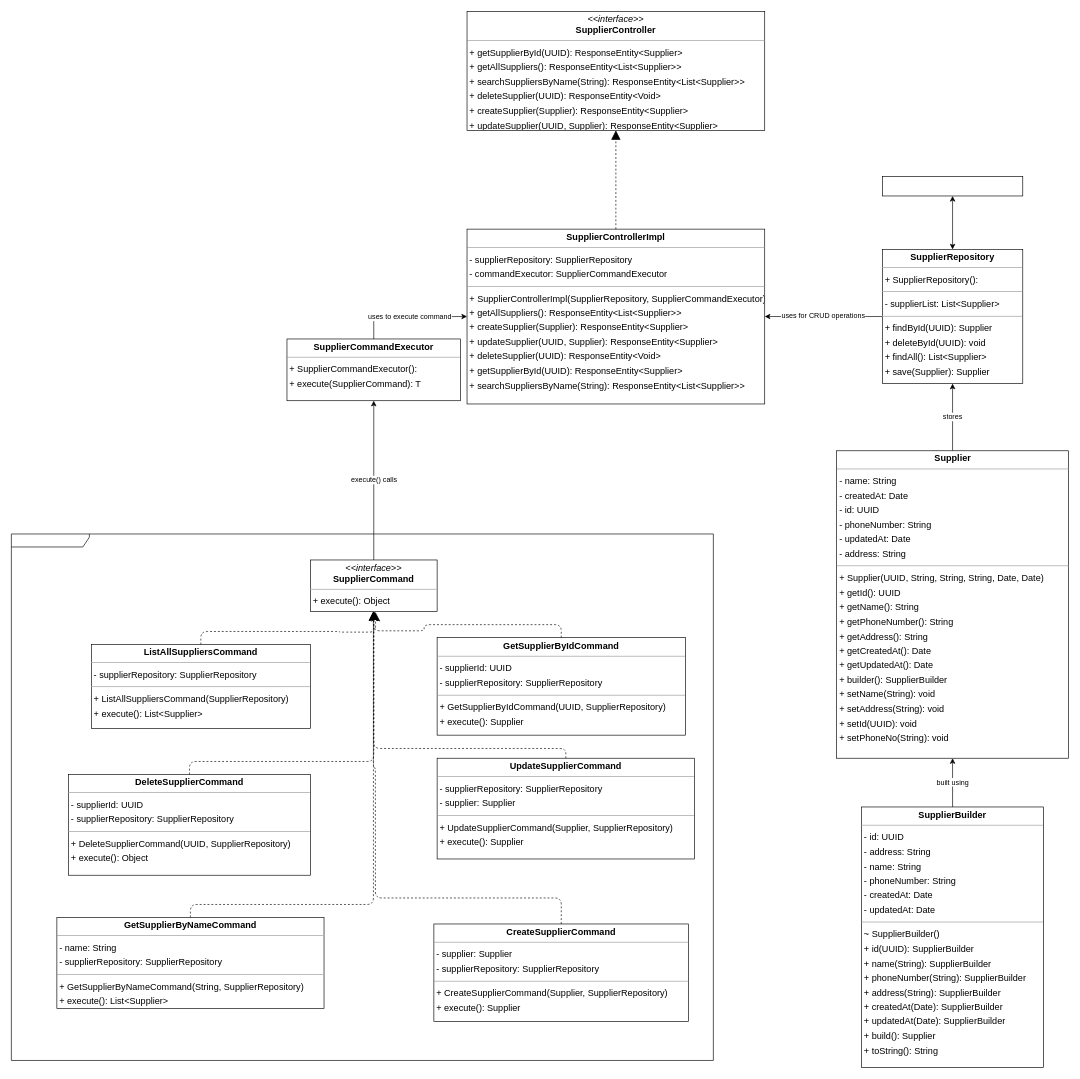
This 1080x1079 diagram has some shape labels left out. Each missing label, with the centre of its shape:
"SupplierCommand" goes at [362,796].
"SupplierDatabase" goes at [952,186].
